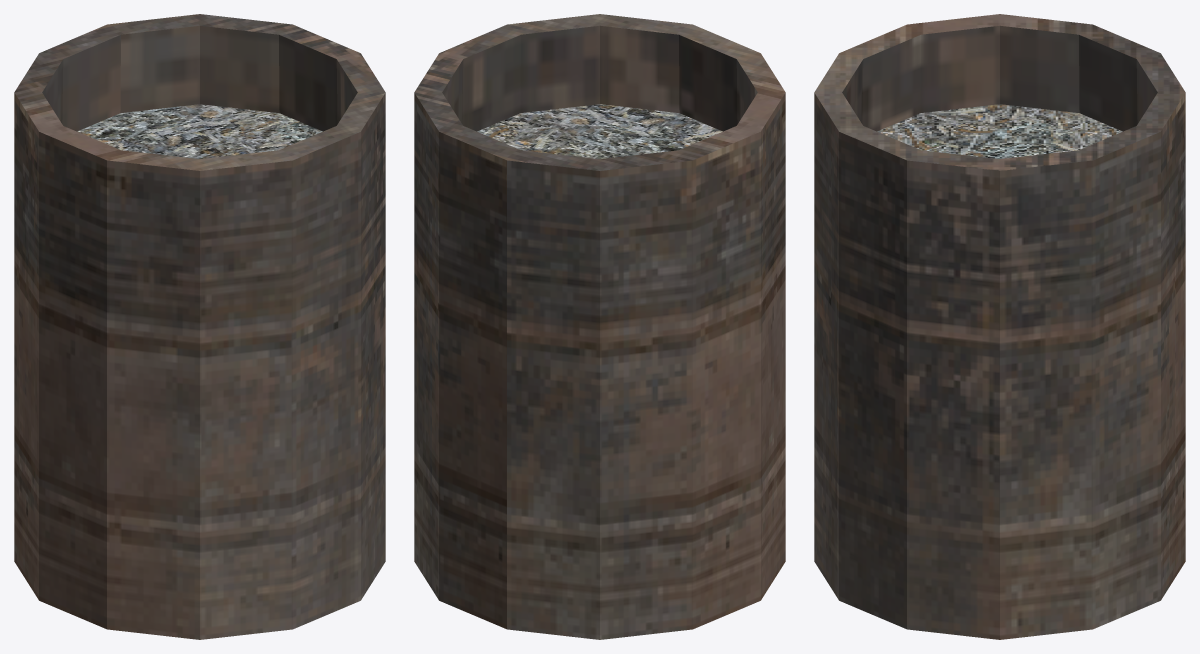
Rendered from psx_barrel.glb.
3 views of the same model, side by side, from view 1: azimuth 30°, elevation 25°; view 2: azimuth 150°, elevation 25°; view 3: azimuth 270°, elevation 25° (orthographic).
Visible parts, largest first — view 1: Barrel; view 2: Barrel; view 3: Barrel.
Boxes of the visible parts, x1,y1,x2,y2 form: Barrel: (14,14,385,639); Barrel: (414,14,785,639); Barrel: (814,14,1185,639).
Size of the model in its own units: 2 by 2.79 by 2.
2 materials, 2 textured.
